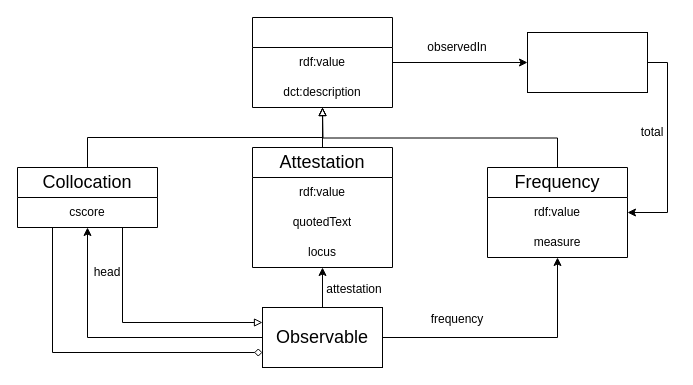
Some shapes in this 693 by 385 pixel diagram are drawn without their labels. Here are the shapes that lost their labels. From the top down, the box of each, then its label:
(252, 16, 392, 108): Observation
(526, 32, 648, 92): anyURI
